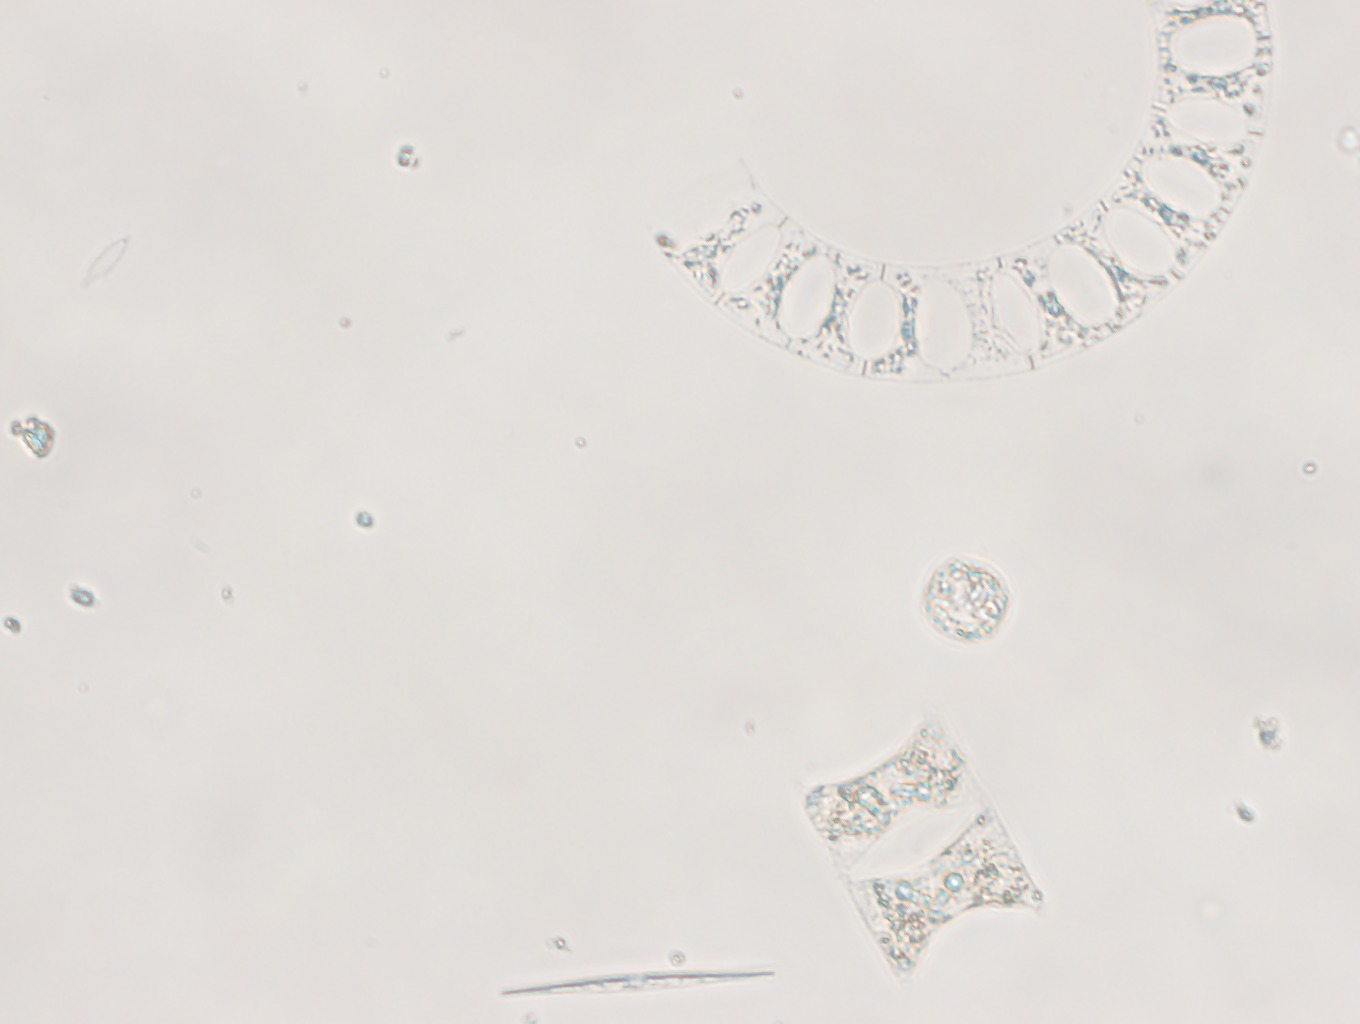eucampia: (656, 1, 1274, 385), (798, 716, 1049, 981)
navicula: (498, 968, 781, 995)
